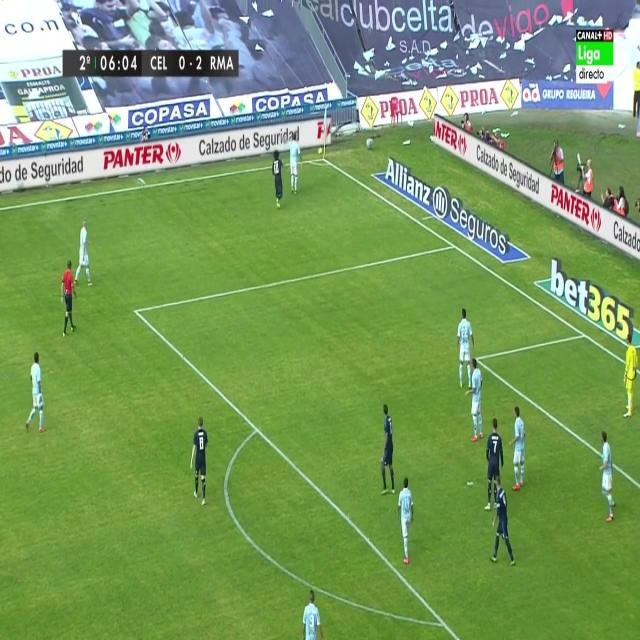Ball: (316, 144, 324, 158)
Goalkeeper: (622, 334, 639, 419)
Player: (492, 476, 519, 570), (483, 416, 504, 513), (189, 416, 211, 508), (599, 430, 619, 529), (23, 350, 45, 435), (380, 402, 398, 498), (510, 405, 528, 493), (456, 306, 474, 393), (73, 218, 95, 289), (398, 475, 415, 565), (301, 587, 324, 640), (471, 359, 484, 446), (288, 131, 304, 195), (270, 147, 286, 208)
Referee: (60, 257, 76, 339)
